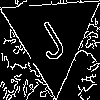J: (27, 11, 69, 63)
